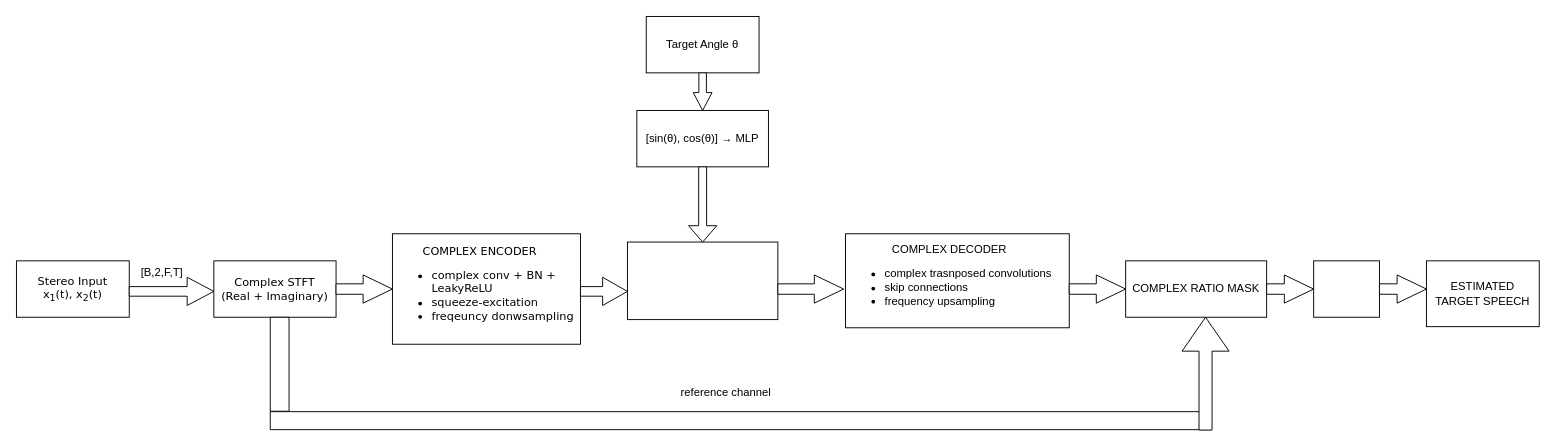
Image size: 1556x447. Some labels were removed from this diagram. Each missing label, with the centre of its shape:
"DUAL-PATH LSTM freqeuncy LSTM time LSTM" belongs at [702,280].
"ISTFT" belongs at [1346,288].
